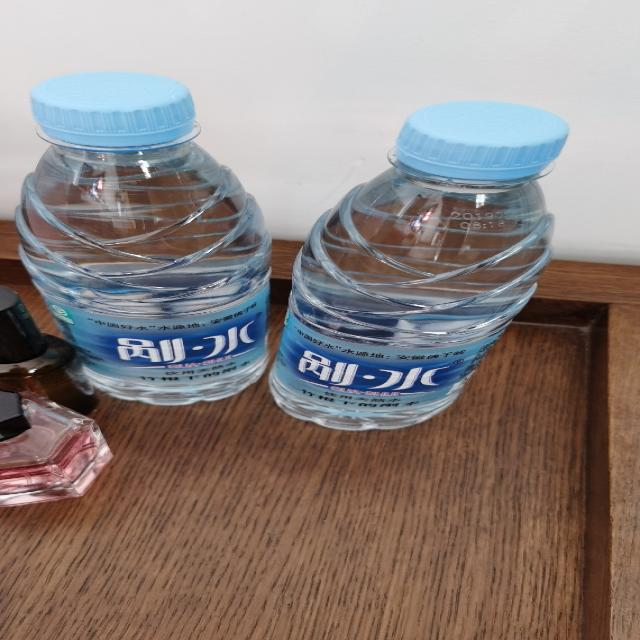bottle: (277, 99, 573, 433), (13, 68, 273, 408)
